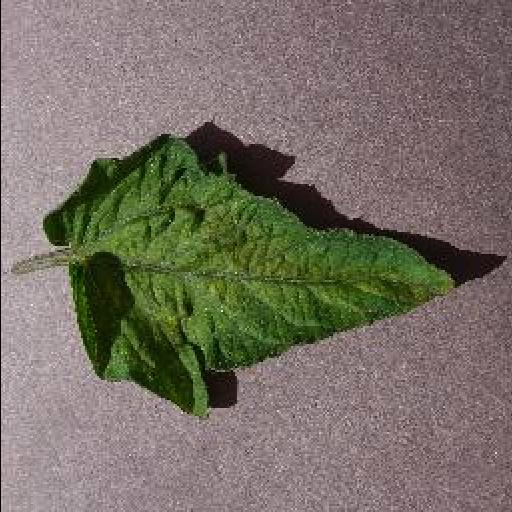disease_tomato: (40, 132, 462, 418)
